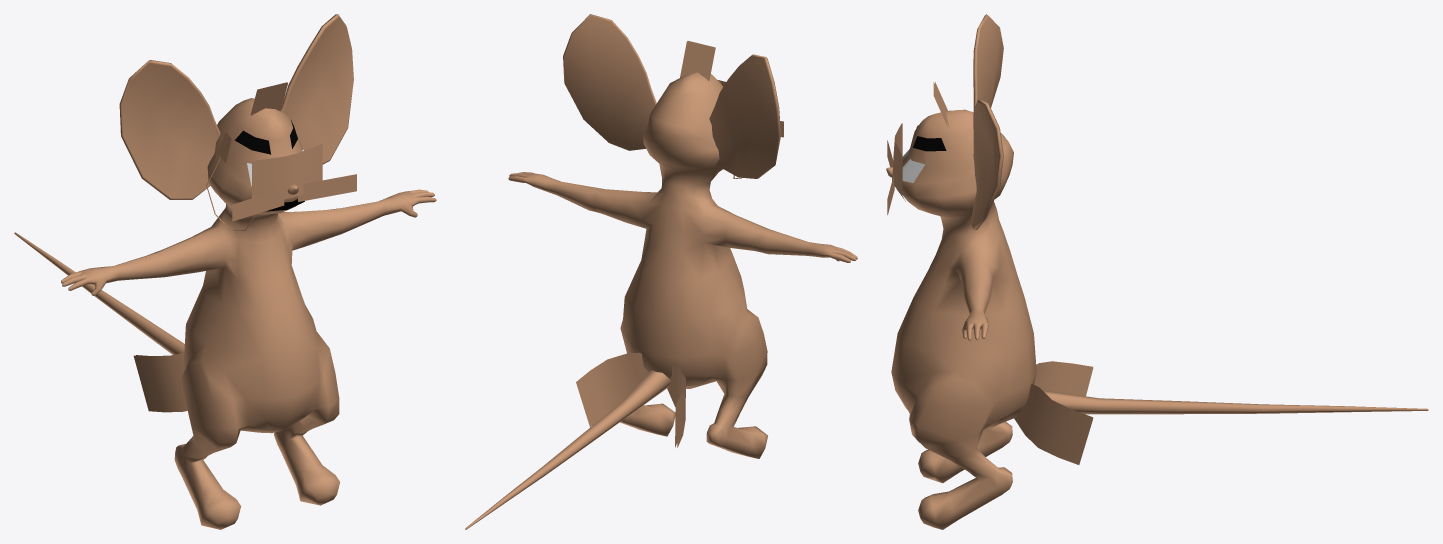
File: MESH_LIMEMOUSE.fbx
The picture shows the model from 3 angles, left to right: view 1: azimuth 30°, elevation 25°; view 2: azimuth 150°, elevation 25°; view 3: azimuth 270°, elevation 25°; orthographic projection. The views are drawn at different scales.
Parts seen in each view (by area): view 1: MESH_LIMEMOUSE, EYEBROW; view 2: MESH_LIMEMOUSE; view 3: MESH_LIMEMOUSE.
Boxes of the visible parts, x1=… form: MESH_LIMEMOUSE: x1=14, y1=14, x2=436, y2=529; EYEBROW: x1=234, y1=120, x2=297, y2=154; MESH_LIMEMOUSE: x1=465, y1=14, x2=857, y2=529; MESH_LIMEMOUSE: x1=886, y1=14, x2=1428, y2=529.
Bounding box in the file's own units: 86.02 × 102 × 112.
